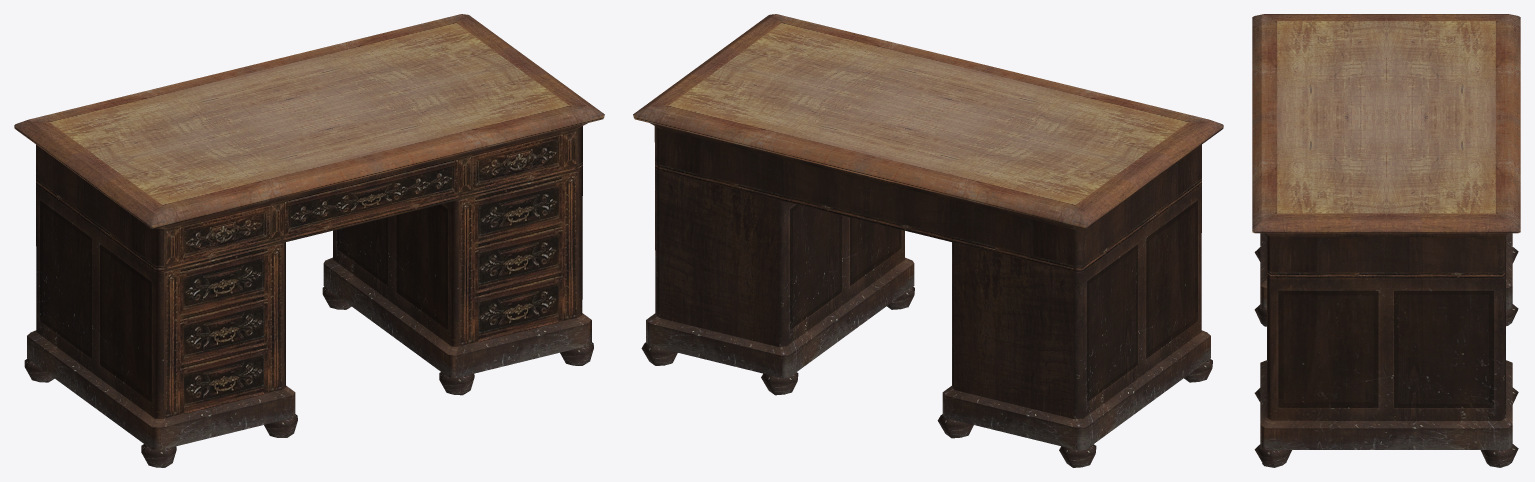
3 views of the same model, side by side, from view 1: azimuth 30°, elevation 25°; view 2: azimuth 150°, elevation 25°; view 3: azimuth 270°, elevation 25° (orthographic). The views are drawn at different scales.
Parts seen in each view (by area): view 1: LV_Common_Object_A_Furniture02_SM_NWC; view 2: LV_Common_Object_A_Furniture02_SM_NWC; view 3: LV_Common_Object_A_Furniture02_SM_NWC.
Part boxes in pixels (x1,y1,x2,y2): LV_Common_Object_A_Furniture02_SM_NWC: (14, 14, 604, 467); LV_Common_Object_A_Furniture02_SM_NWC: (633, 14, 1223, 467); LV_Common_Object_A_Furniture02_SM_NWC: (1252, 14, 1520, 467).
Size of the model in its own units: 0.3993 by 0.2148 by 0.2109.
Materials: 1 (1 with a texture image).
